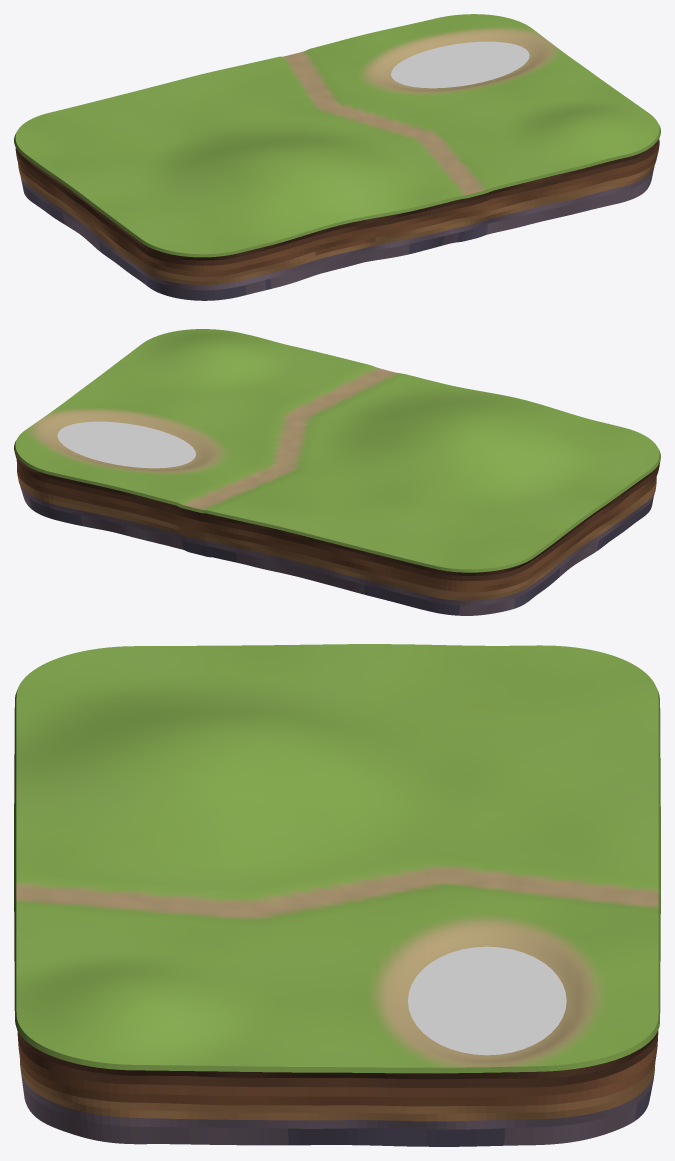
File: terrain_level03.fbx
3 renders of one model, top to bottom at view 1: azimuth 30°, elevation 25°; view 2: azimuth 150°, elevation 25°; view 3: azimuth 270°, elevation 25°, orthographic. The views are drawn at different scales.
Parts seen in each view (by area): view 1: Ground, Water_stream; view 2: Ground, Water_stream; view 3: Ground, Water_stream.
Boxes of the visible parts, left/top/right/bottom form: Ground: left=14, top=14, right=660, bottom=300; Water_stream: left=391, top=41, right=529, bottom=88; Ground: left=14, top=329, right=660, bottom=615; Water_stream: left=57, top=421, right=195, bottom=468; Ground: left=14, top=644, right=660, bottom=1146; Water_stream: left=408, top=946, right=566, bottom=1055.
Size of the model in its own units: 14.07 by 1.93 by 9.07.
